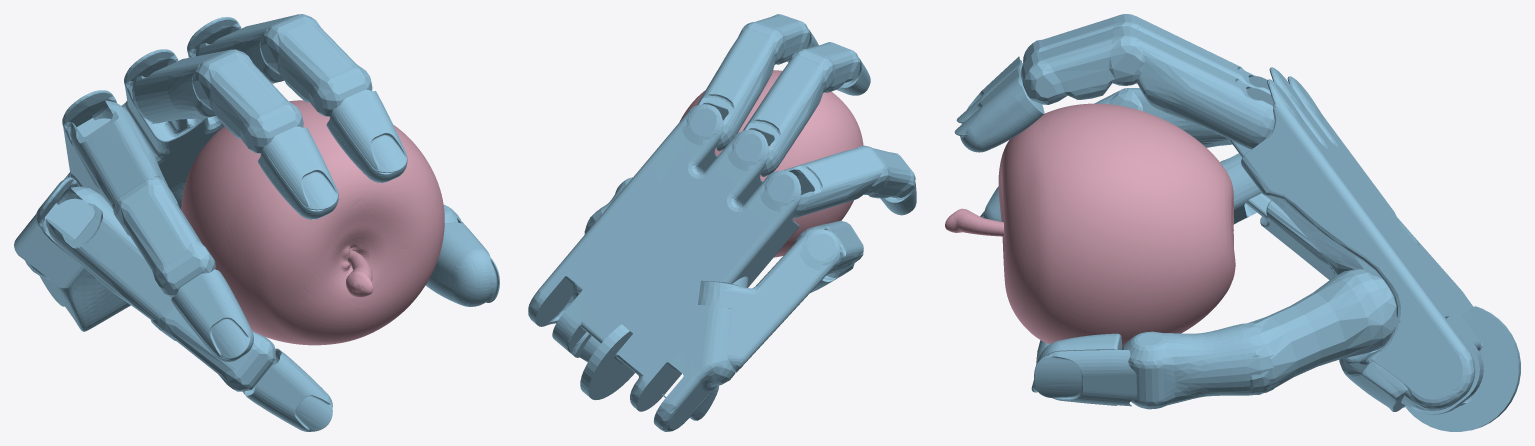
3 views of the same model, side by side, from view 1: azimuth 30°, elevation 25°; view 2: azimuth 150°, elevation 25°; view 3: azimuth 270°, elevation 25° (orthographic). The views are drawn at different scales.
Parts seen in each view (by area): view 1: world, apple.stl; view 2: world, apple.stl; view 3: world, apple.stl.
Boxes of the visible parts, box(x1,y1,x2,y2) form: world: box(14, 14, 499, 431); apple.stl: box(181, 100, 444, 345); world: box(528, 14, 916, 431); apple.stl: box(679, 70, 863, 257); world: box(954, 14, 1520, 431); apple.stl: box(945, 103, 1235, 347).
Size of the model in its own units: 0.1246 by 0.1348 by 0.175.
